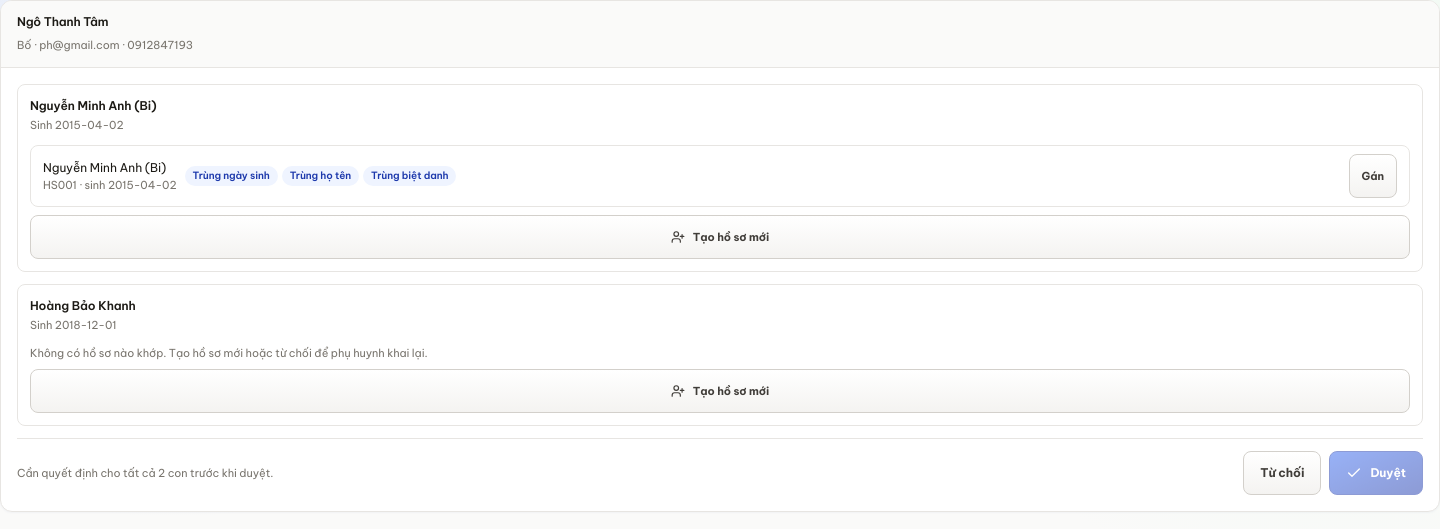
Test: LinkRequestsPanel › nut Duyet bi khoa cho toi khi moi con deu co quyet dinh
Expected: the heading "Ngô Thanh Tâm" is shown, 17,14 -> 108,29
Expected: the button "Duyệt" is disabled, 1329,451 -> 1423,495
Con thu nhat: gan vao ho so duoc goi y.
Click the button "Gán".
click(1373, 176)  # box 1349,154 -> 1397,198
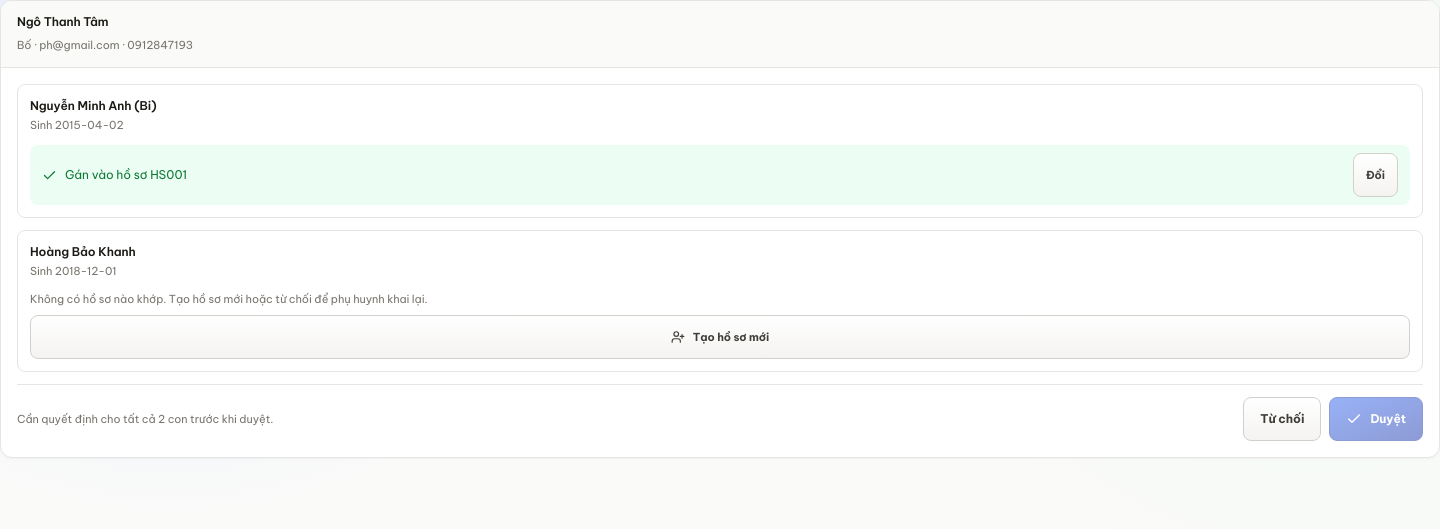
Expected: the button "Duyệt" is disabled, 1329,397 -> 1423,441
Click the button "Tạo hồ sơ mới".
click(720, 337)  # box 30,315 -> 1410,359
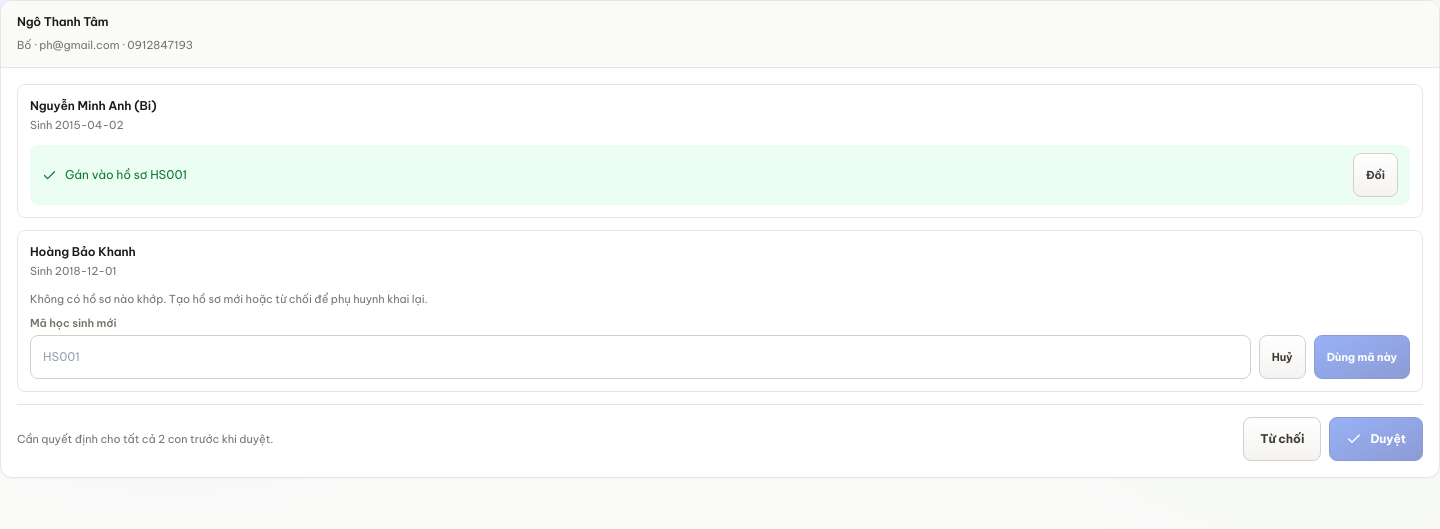
Type "hs009" into the field with placeholder "HS001".
click(640, 357); type("hs009")  # box 30,335 -> 1251,379
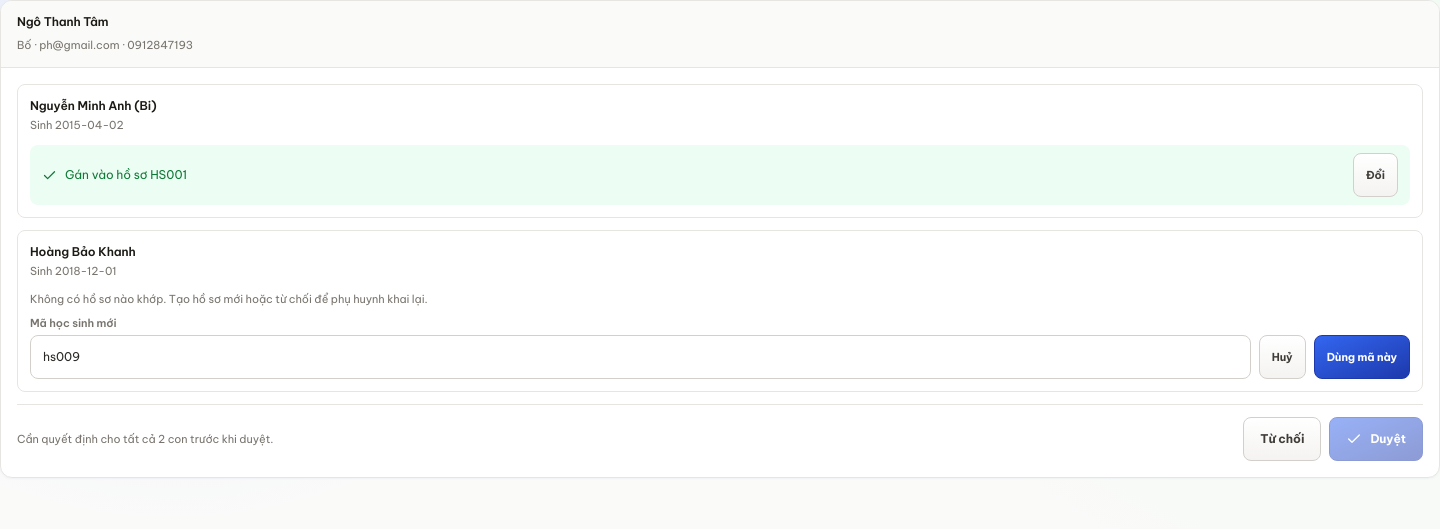
Click the button "Dùng mã này".
click(1362, 357)  # box 1314,335 -> 1410,379
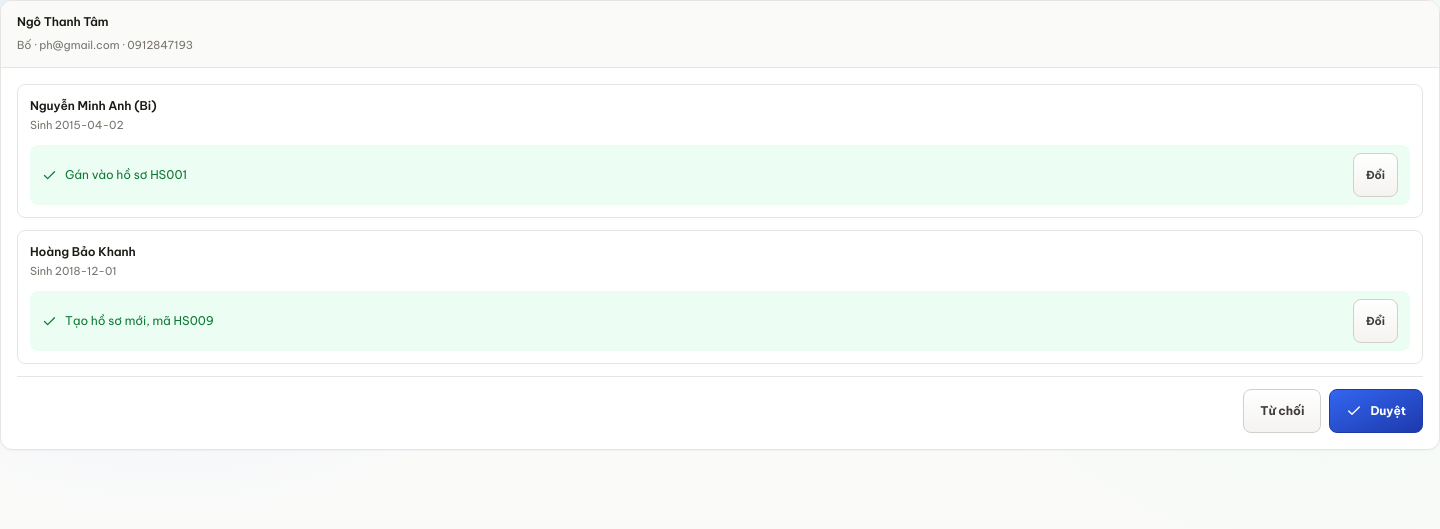
Result: the button "Duyệt" is enabled at 1329,389 -> 1423,433
